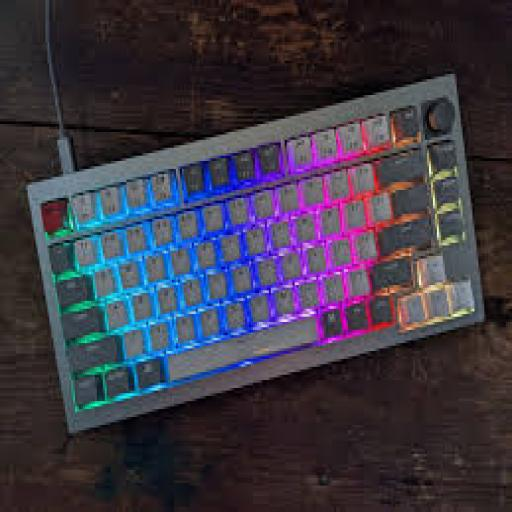keyboard: (28, 74, 482, 430)
